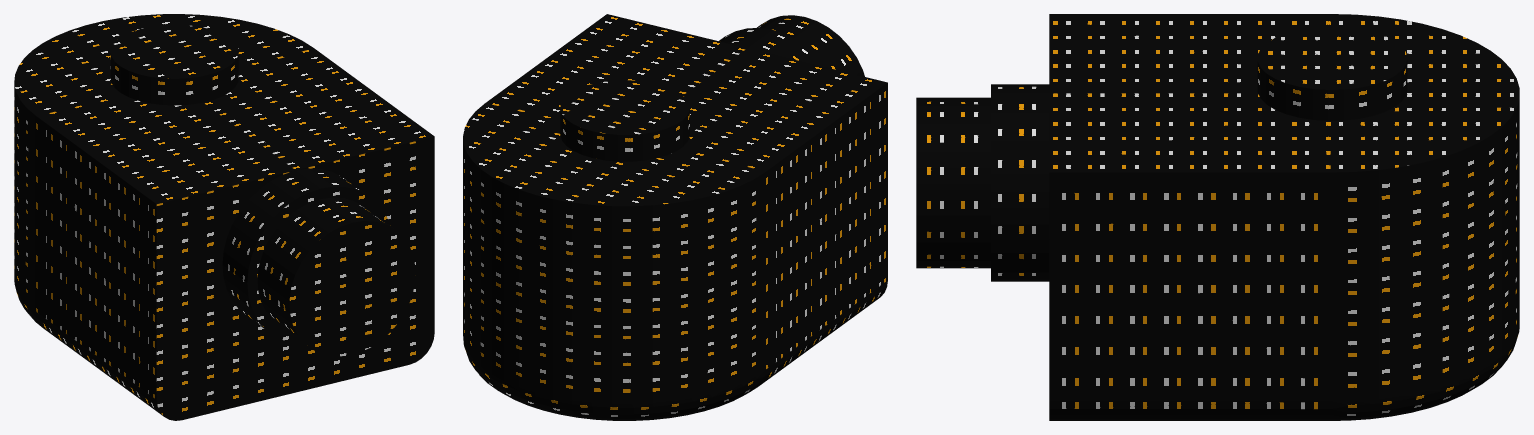
The model's file is MPO-700-HEAD.obj.
The picture shows the model from 3 angles, left to right: view 1: azimuth 30°, elevation 25°; view 2: azimuth 150°, elevation 25°; view 3: azimuth 270°, elevation 25°; orthographic projection. The views are drawn at different scales.
Parts seen in each view (by area): view 1: Volumenkörper1_004-mesh; view 2: Volumenkörper1_004-mesh; view 3: Volumenkörper1_004-mesh.
Boxes of the visible parts, x1,y1,x2,y2 form: Volumenkörper1_004-mesh: [14, 14, 434, 420]; Volumenkörper1_004-mesh: [463, 14, 887, 420]; Volumenkörper1_004-mesh: [916, 14, 1519, 420].
Bounding box in the file's own units: 110 × 95.3 × 177.
1 material, 1 textured.
